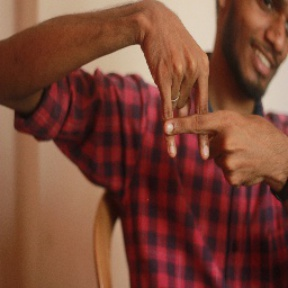H: (129, 60, 245, 173)
